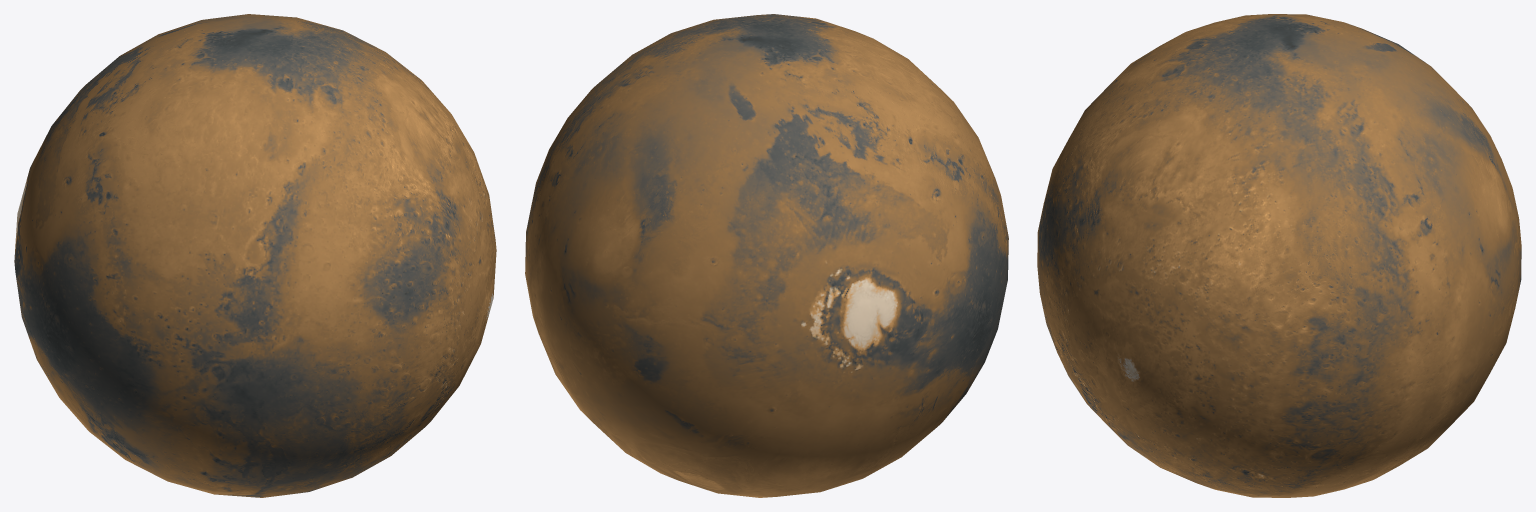
Rendered from Mars.glb.
The picture shows the model from 3 angles, left to right: view 1: azimuth 30°, elevation 25°; view 2: azimuth 150°, elevation 25°; view 3: azimuth 270°, elevation 25°; orthographic projection.
Parts seen in each view (by area): view 1: Mars; view 2: Mars; view 3: Mars.
Boxes of the visible parts, x1,y1,x2,y2 form: Mars: (14, 14, 496, 497); Mars: (525, 14, 1008, 497); Mars: (1037, 14, 1521, 497).
Size of the model in its own units: 0.00912 by 0.00912 by 0.0091.
Materials: 1 (1 with a texture image).
